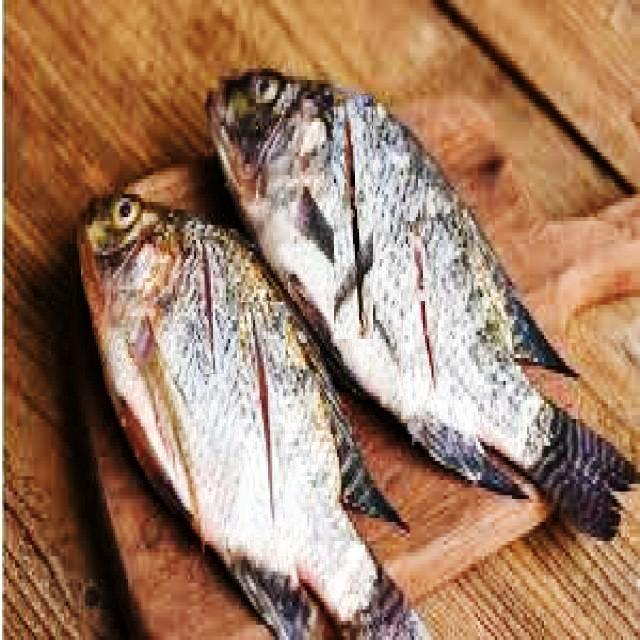Aeromonas Septicemia: (204, 69, 634, 546), (72, 191, 426, 640)
